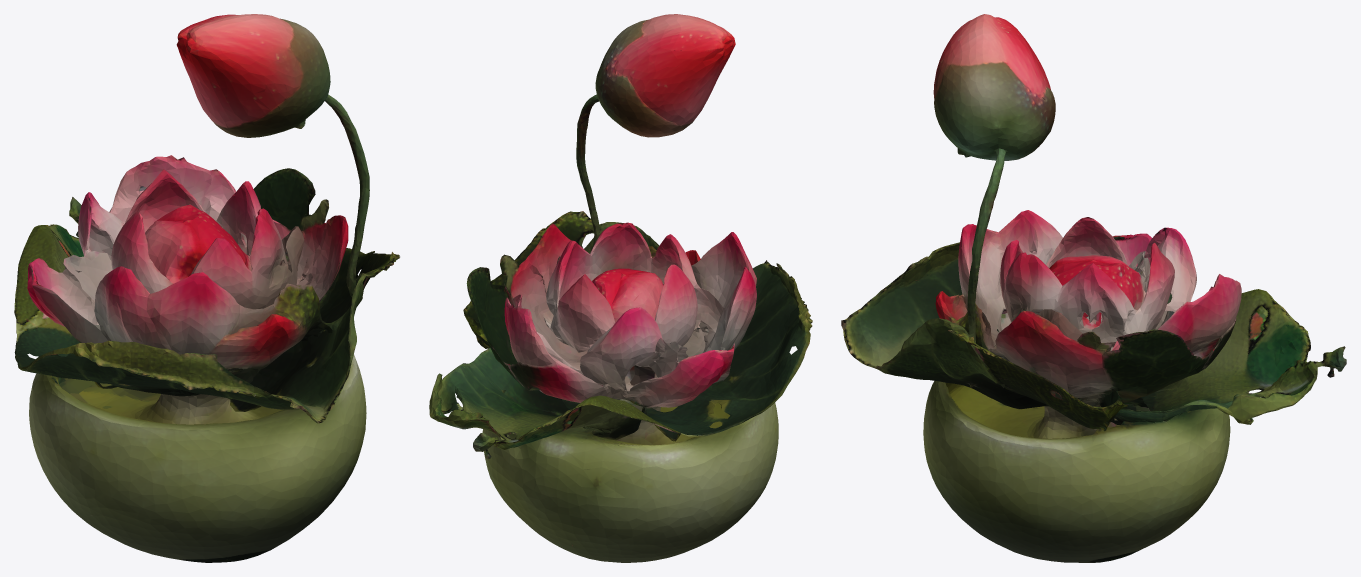
3 renders of one model, left to right at view 1: azimuth 30°, elevation 25°; view 2: azimuth 150°, elevation 25°; view 3: azimuth 270°, elevation 25°, orthographic. The views are drawn at different scales.
Visible parts, largest first — view 1: world; view 2: world; view 3: world.
Boxes of the visible parts, <box> form: world: <box>14,14,399,562</box>; world: <box>429,14,812,562</box>; world: <box>841,14,1346,562</box>.
Size of the model in its own units: 0.6674 by 0.9949 by 0.914.
1 material, 1 textured.
